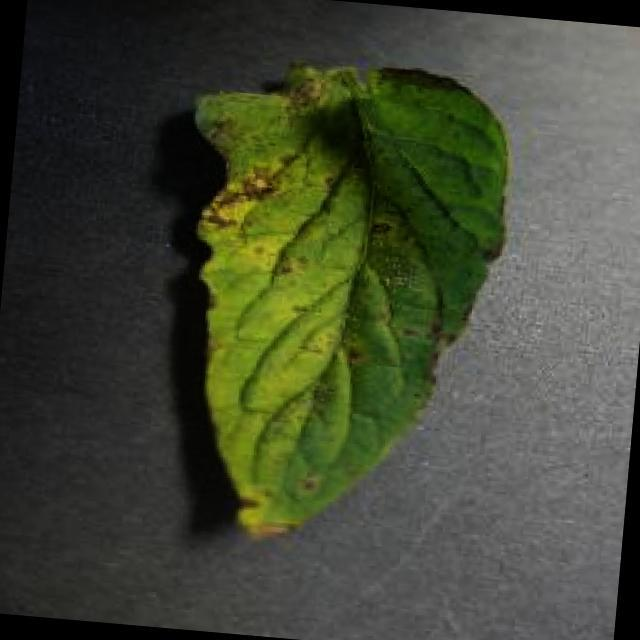Tomato bacterial spot leaf: (148, 39, 526, 574)
